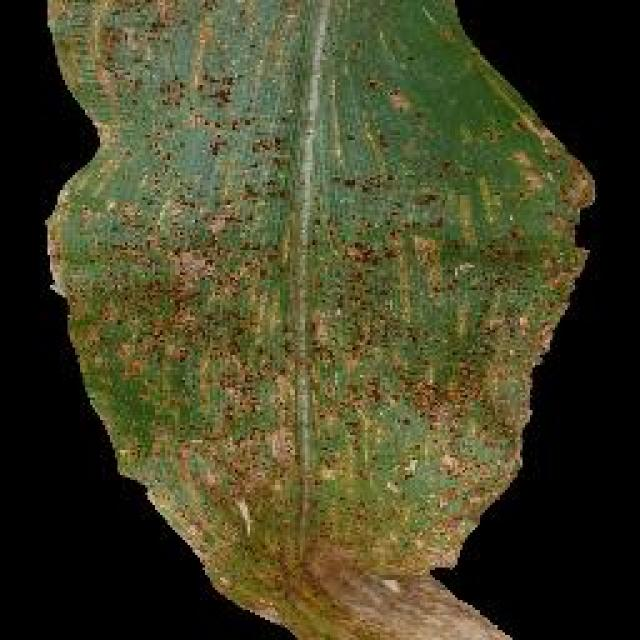Corn Common Rust: (110, 133, 440, 582)
